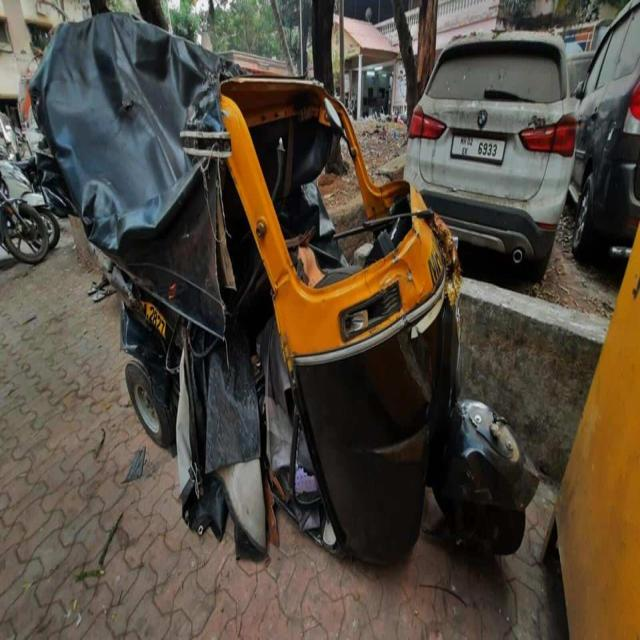accident: (32, 20, 536, 563)
car: (405, 33, 576, 282), (570, 0, 640, 260)
